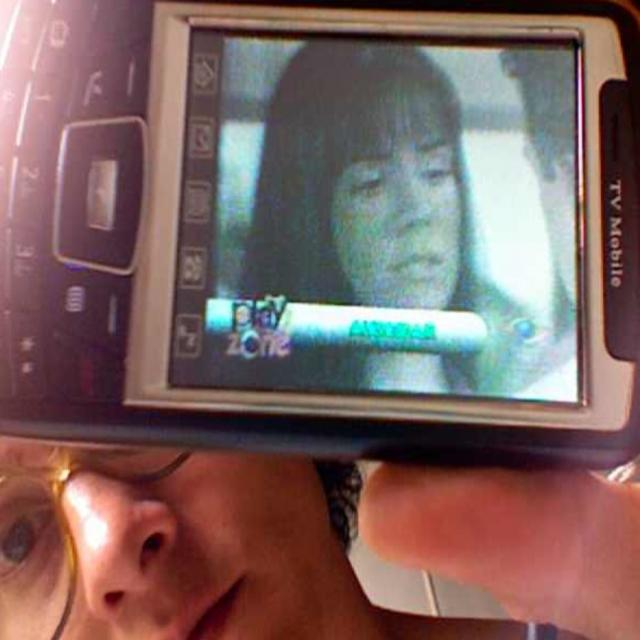Glasses: (0, 439, 202, 640)
